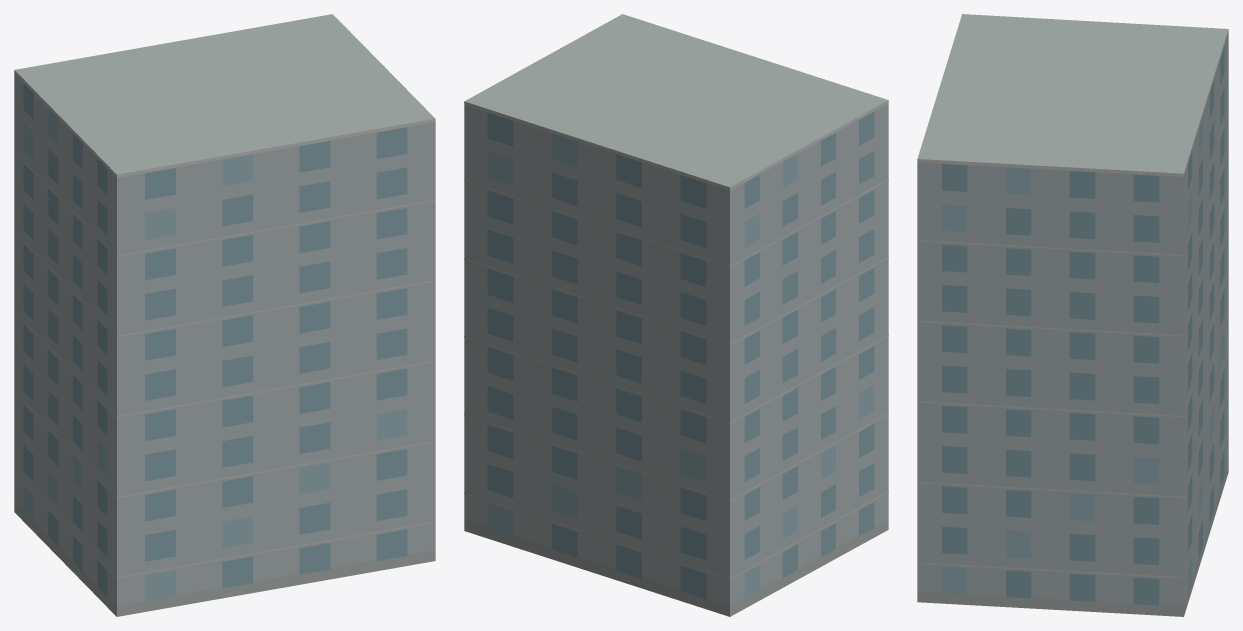
File: residential-87cf8155-e971-4ce6-a2c5-d37e9884079c.glb
3 views of the same model, side by side, from view 1: azimuth 30°, elevation 25°; view 2: azimuth 150°, elevation 25°; view 3: azimuth 270°, elevation 25° (orthographic). The views are drawn at different scales.
Visible parts, largest first — view 1: residential-87cf8155-e971-4ce6-a2c5-d37e9884079c.tmp; view 2: residential-87cf8155-e971-4ce6-a2c5-d37e9884079c.tmp; view 3: residential-87cf8155-e971-4ce6-a2c5-d37e9884079c.tmp.
Boxes of the visible parts, x1=… form: residential-87cf8155-e971-4ce6-a2c5-d37e9884079c.tmp: x1=14, y1=14, x2=435, y2=616; residential-87cf8155-e971-4ce6-a2c5-d37e9884079c.tmp: x1=464, y1=14, x2=888, y2=616; residential-87cf8155-e971-4ce6-a2c5-d37e9884079c.tmp: x1=917, y1=14, x2=1228, y2=616.
Bounding box in the file's own units: 24.75 × 32 × 20.39.
